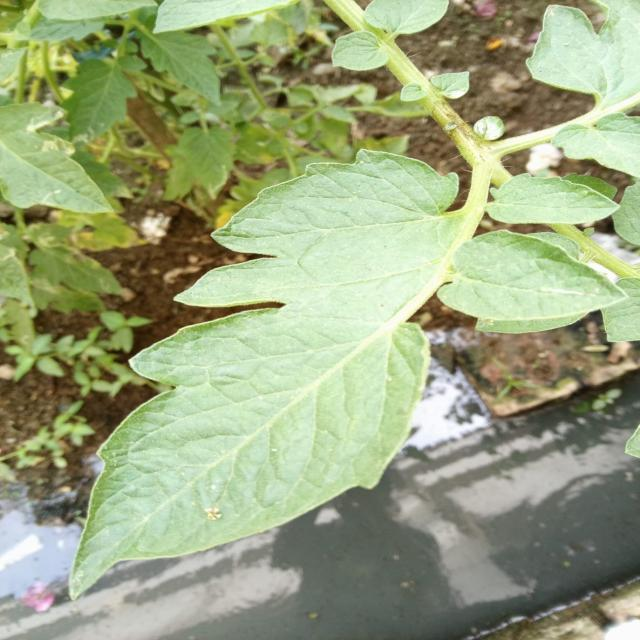Healthy: (54, 93, 496, 640), (437, 225, 627, 332), (487, 173, 618, 225)
